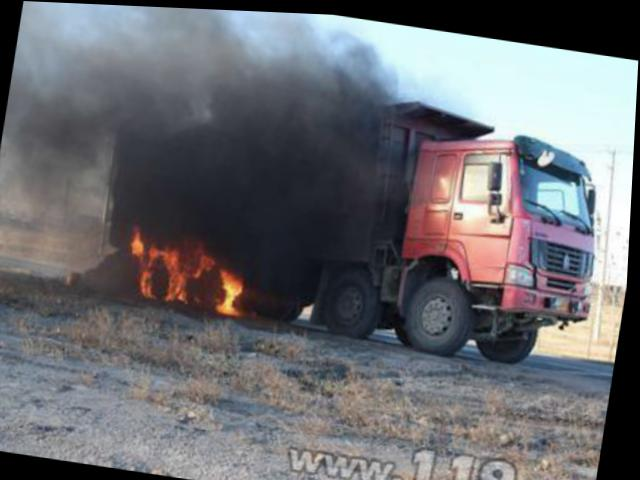fire: (219, 272, 246, 310), (164, 260, 190, 298), (144, 240, 177, 261), (140, 258, 158, 292), (130, 226, 145, 252)
